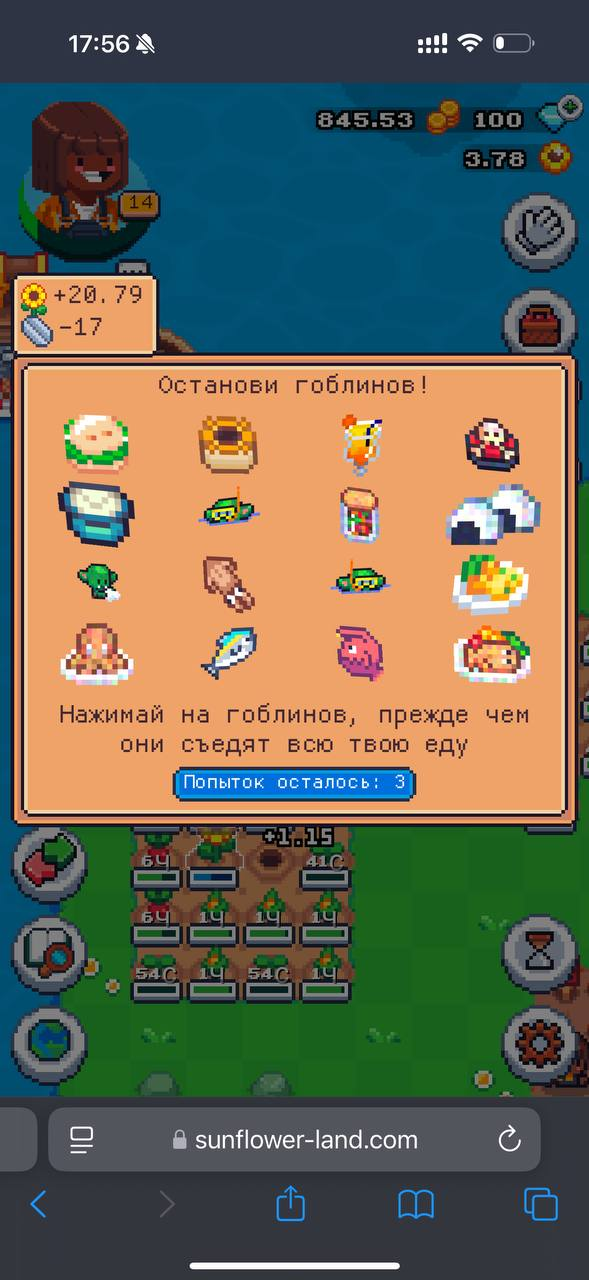capcha_goblin: (199, 483, 264, 527), (330, 557, 393, 593), (74, 561, 120, 603)
